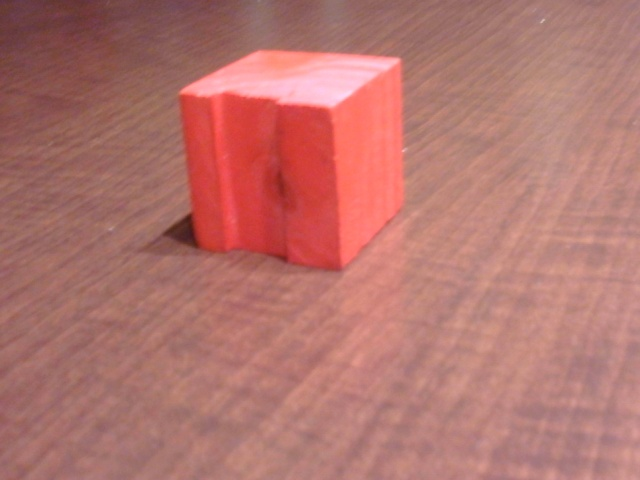RedBlock: (179, 86, 372, 267)
